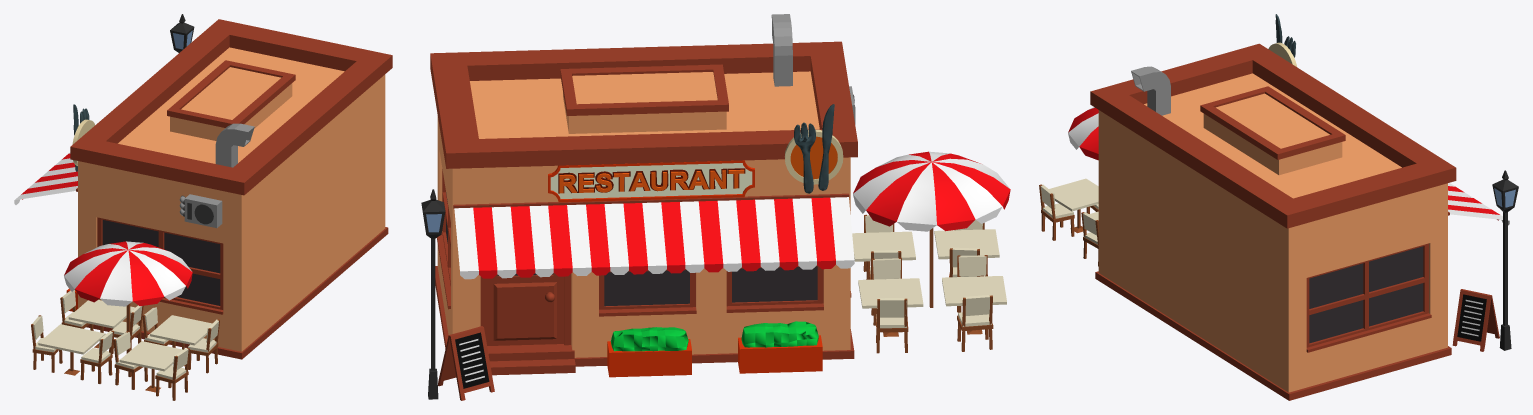
The model's file is Restaurant.glb.
3 renders of one model, left to right at view 1: azimuth 30°, elevation 25°; view 2: azimuth 150°, elevation 25°; view 3: azimuth 270°, elevation 25°, orthographic. The views are drawn at different scales.
Visible parts, largest first — view 1: Cube.13517; view 2: Cube.13517; view 3: Cube.13517.
Part boxes in pixels (x1=…): Cube.13517: x1=14, y1=14, x2=392, y2=400; Cube.13517: x1=421, y1=14, x2=1010, y2=400; Cube.13517: x1=1039, y1=14, x2=1518, y2=400.
Size of the model in its own units: 0.4625 by 0.2276 by 0.444.
1 material, 1 textured.
